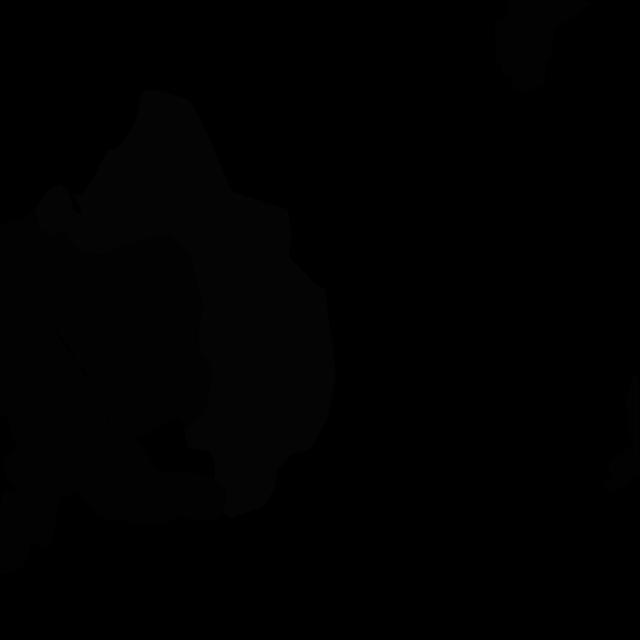cardboard: (0, 264, 226, 525), (0, 209, 212, 439), (0, 446, 60, 575), (508, 0, 596, 64), (602, 375, 640, 492), (495, 13, 546, 92)
soft_plastic: (35, 89, 336, 518)
